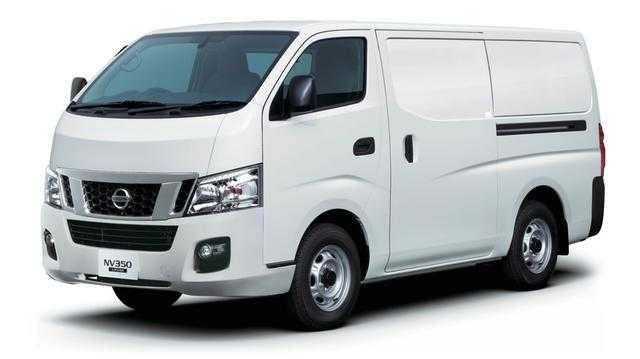car: (40, 26, 605, 336)
